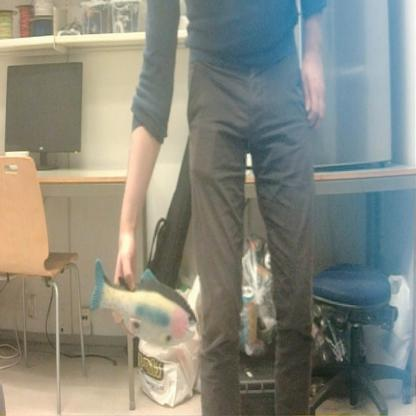rubberfish: (88, 254, 200, 347)
